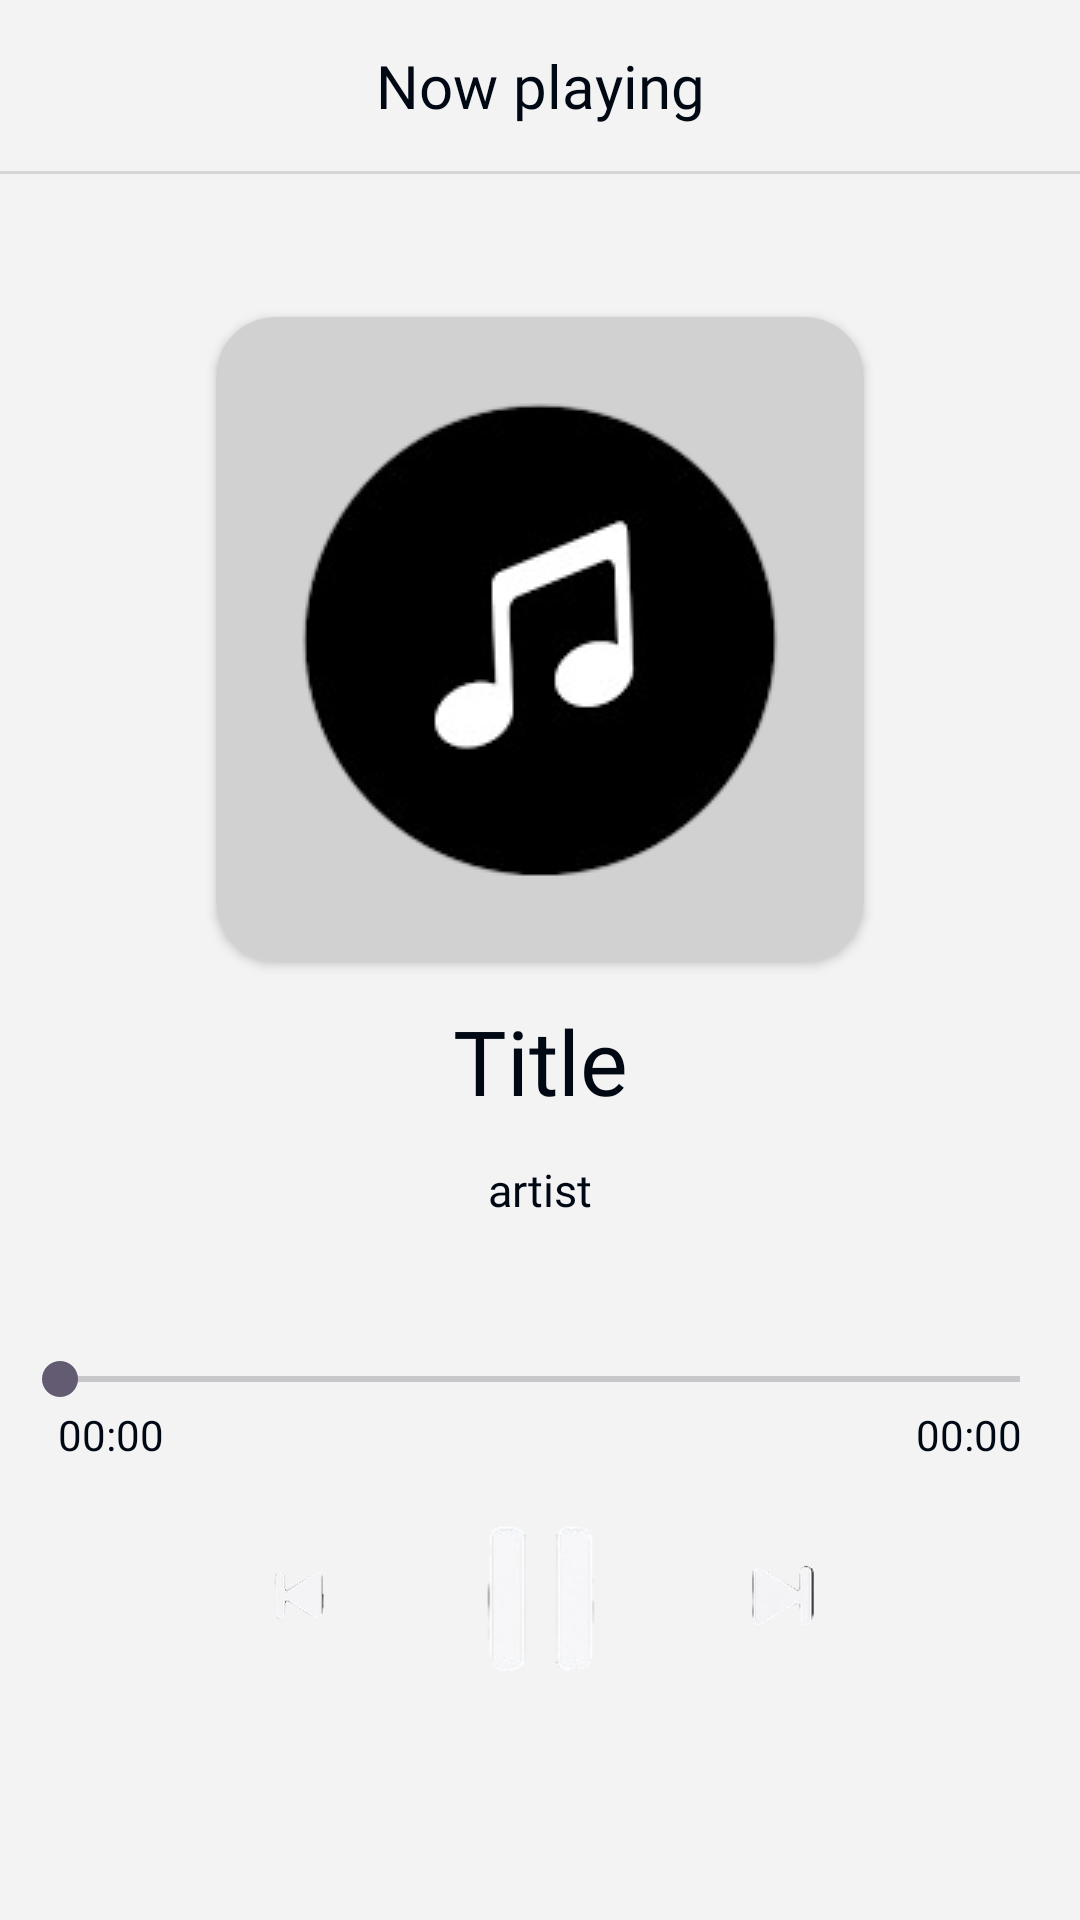

Screen size 1080×1920. Icon name, then its center in pixels as (x=x, y=y):
next: (x=783, y=1593)
previous: (x=300, y=1594)
